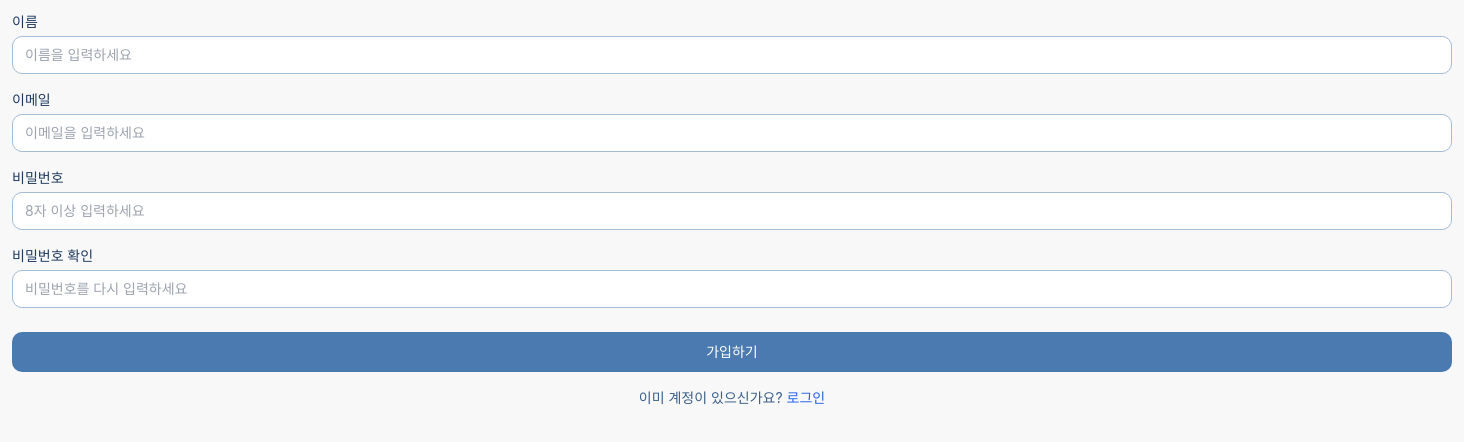
SignupForm › 유효성 검증 › 비밀번호가 8자 미만인 경우 오류 메시지를 표시한다
This screenshot has width=1464, height=442.
In the field labelled "이름": (732, 55) [12,36,1452,74], type "홍길동"
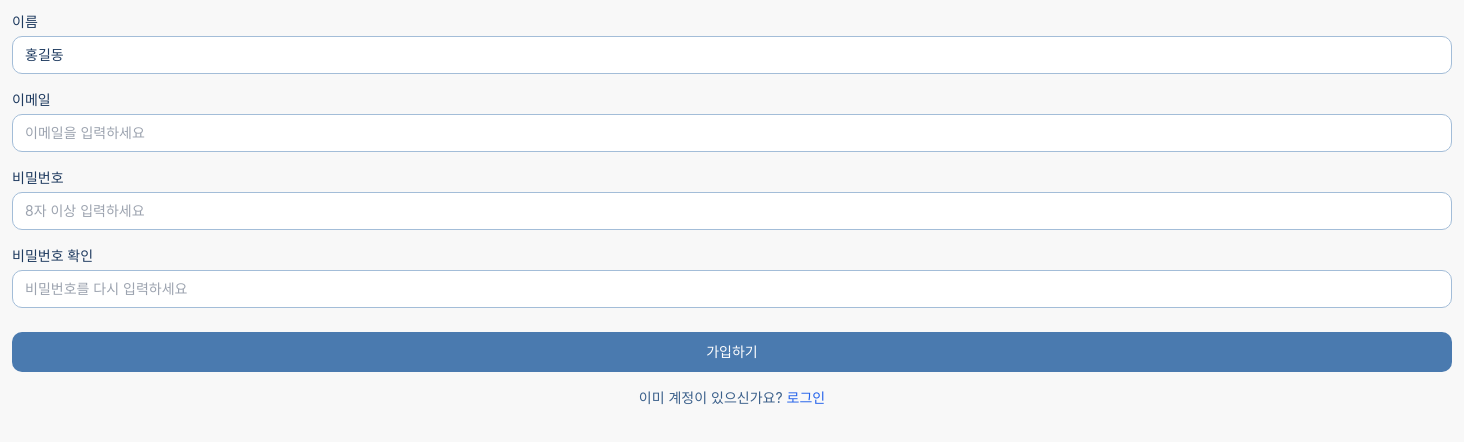
In the field labelled "이메일": (732, 133) [12,114,1452,152], type "test@test.com"
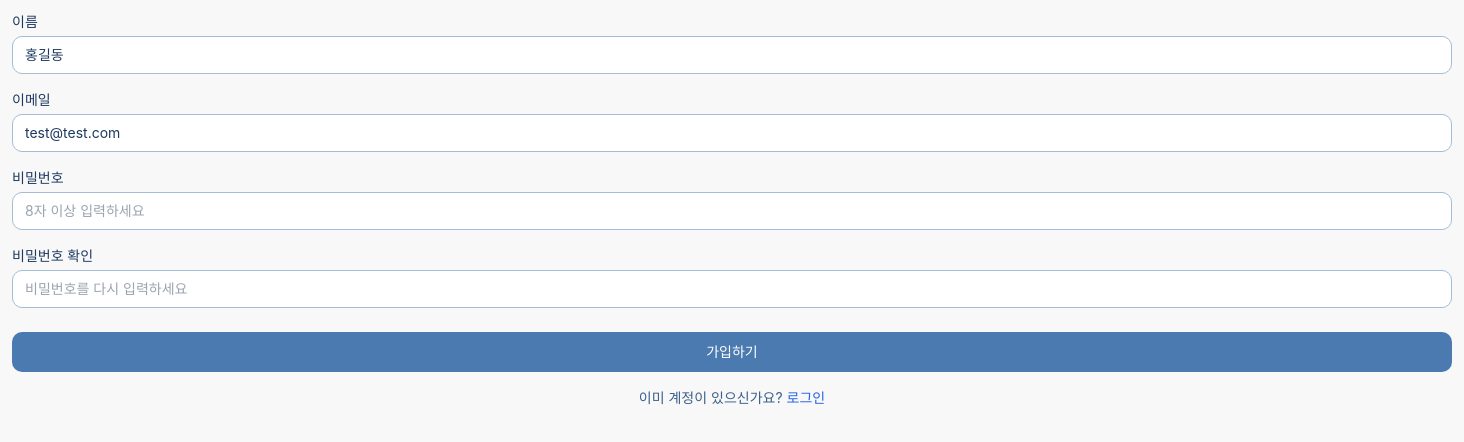
In the password field labelled "비밀번호": (732, 211) [12,192,1452,230], type "1234567"
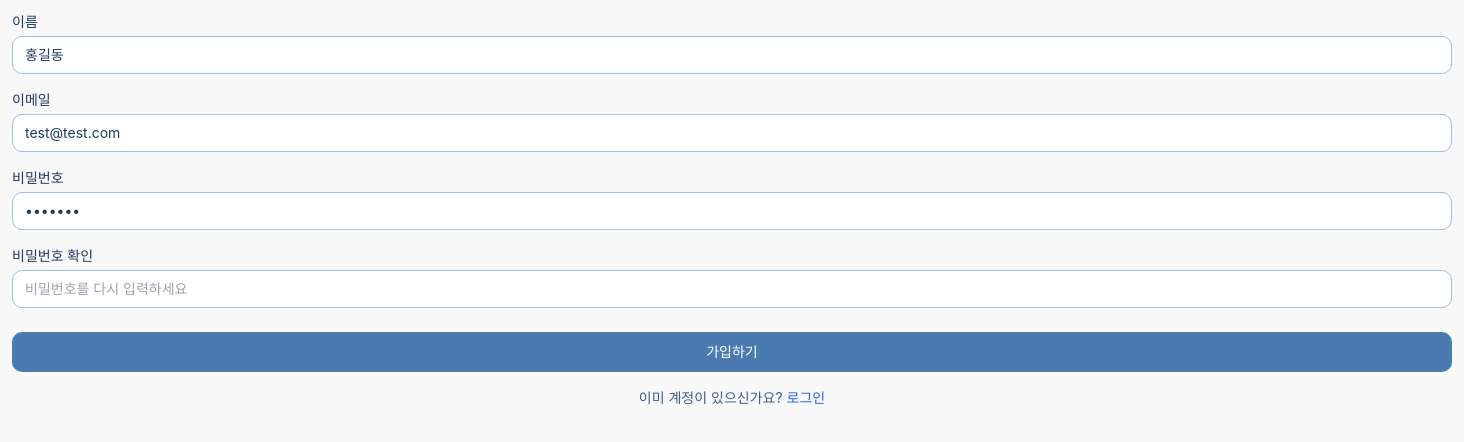
In the password field labelled "비밀번호 확인": (732, 289) [12,270,1452,308], type "1234567"
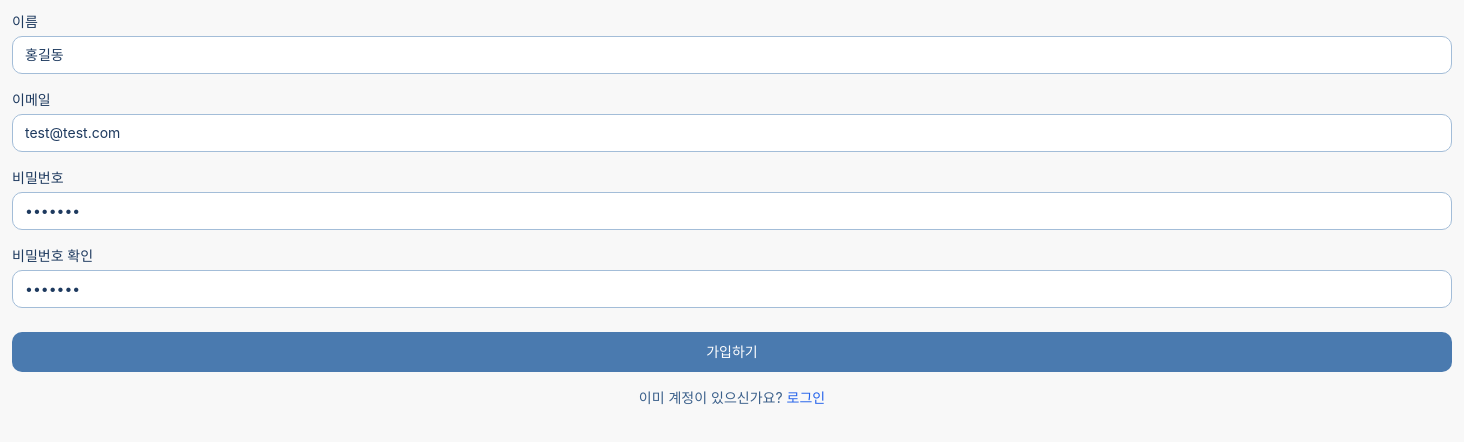
Click the button "가입하기": (732, 352) [12,332,1452,372]
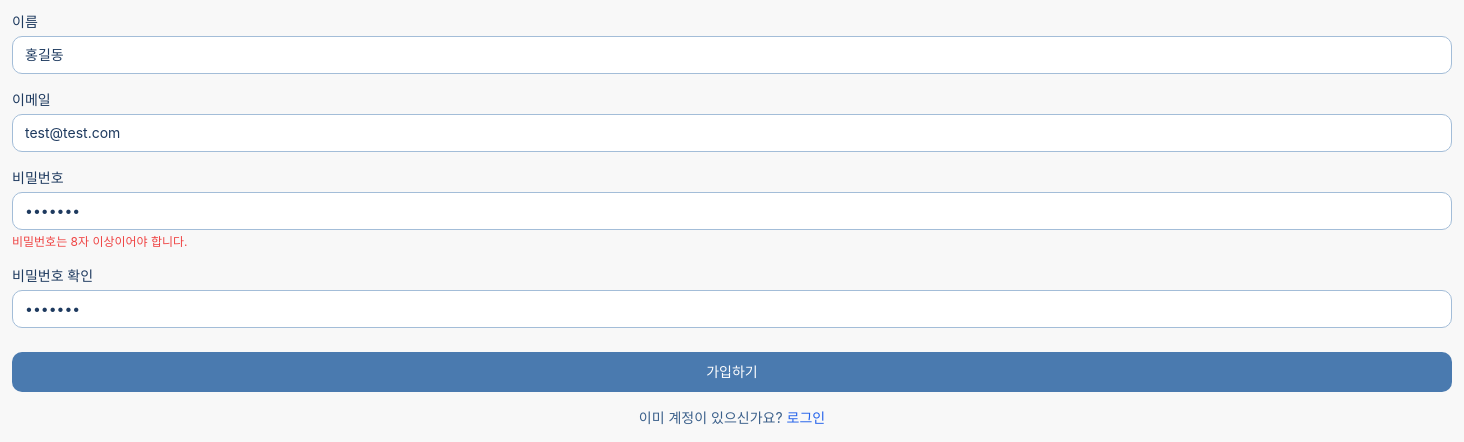
Check: the text "비밀번호는 8자 이상이어야 합니다." is shown, box [12,234,188,249]
